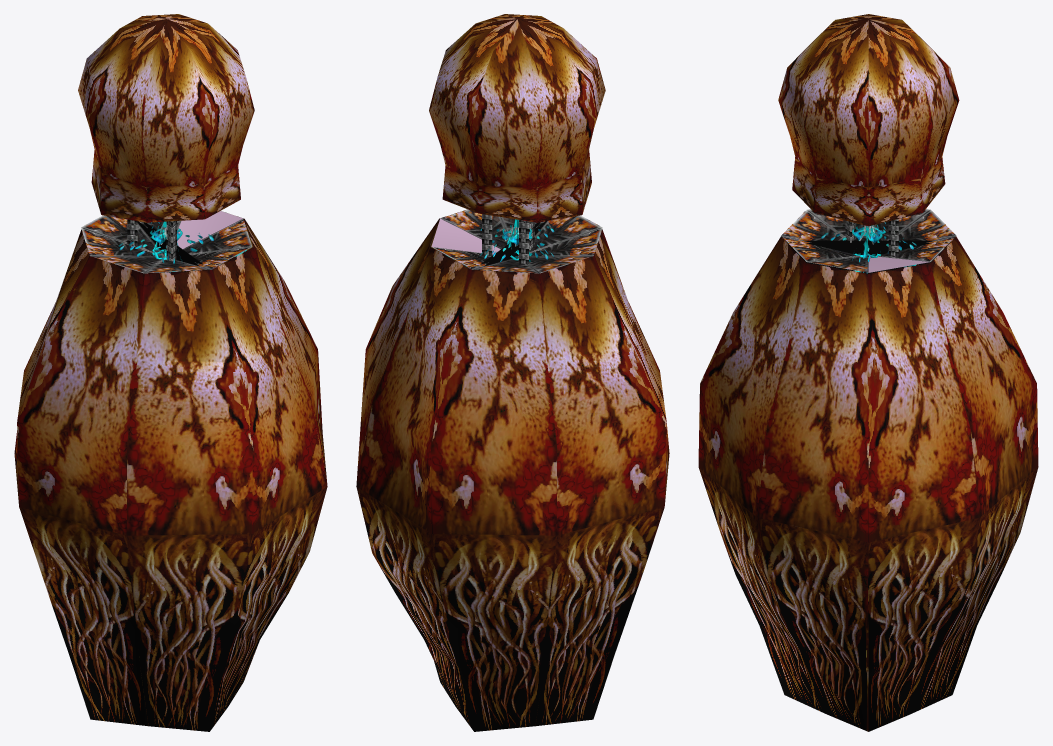
The model's file is bst23a.obj.
The picture shows the model from 3 angles, left to right: view 1: azimuth 30°, elevation 25°; view 2: azimuth 150°, elevation 25°; view 3: azimuth 270°, elevation 25°; orthographic projection.
Parts seen in each view (by area): view 1: BODY0.001, HEAD0, COLLAR0; view 2: BODY0.001, HEAD0, COLLAR0; view 3: BODY0.001, HEAD0, COLLAR0, RECTANGLE020.
Boxes of the visible parts, x1,y1,x2,y2 form: BODY0.001: [14, 212, 327, 731]; HEAD0: [78, 14, 254, 222]; COLLAR0: [81, 211, 252, 273]; BODY0.001: [356, 209, 669, 731]; HEAD0: [429, 14, 605, 222]; COLLAR0: [431, 209, 602, 273]; BODY0.001: [698, 236, 1038, 731]; HEAD0: [778, 14, 959, 226]; COLLAR0: [781, 208, 956, 272]; RECTANGLE020: [787, 243, 949, 273].
Bounding box in the file's own units: 276 × 589 × 269.
17 materials, 15 textured.
